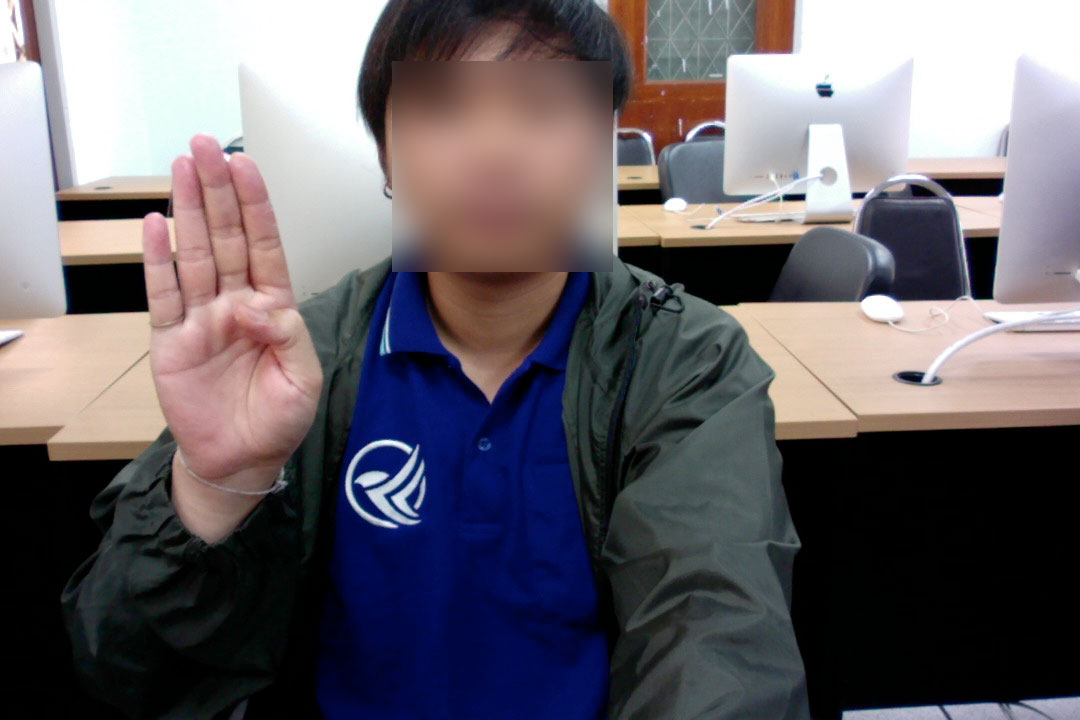bor: (128, 125, 330, 510)
